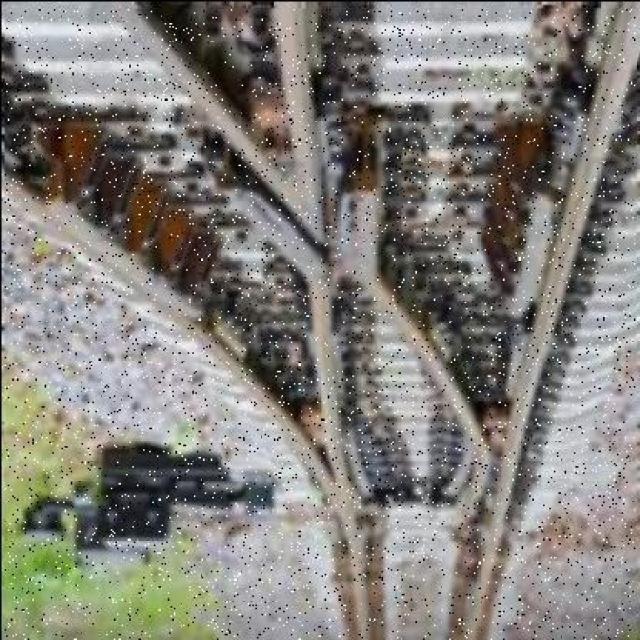rail: (4, 8, 634, 637)
